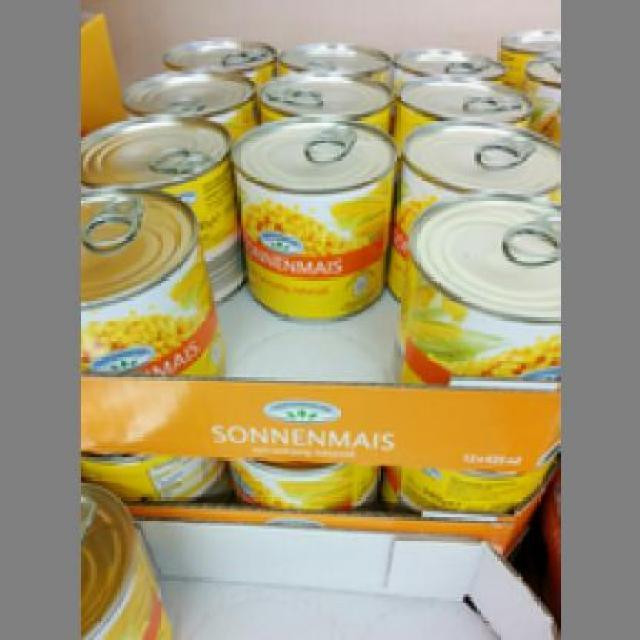Corn: (225, 114, 398, 323), (383, 191, 557, 386), (77, 182, 220, 372)
